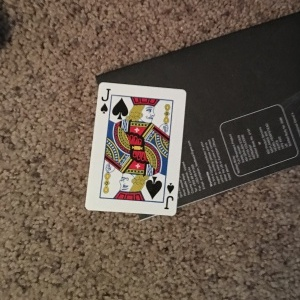card: (85, 82, 188, 218)
